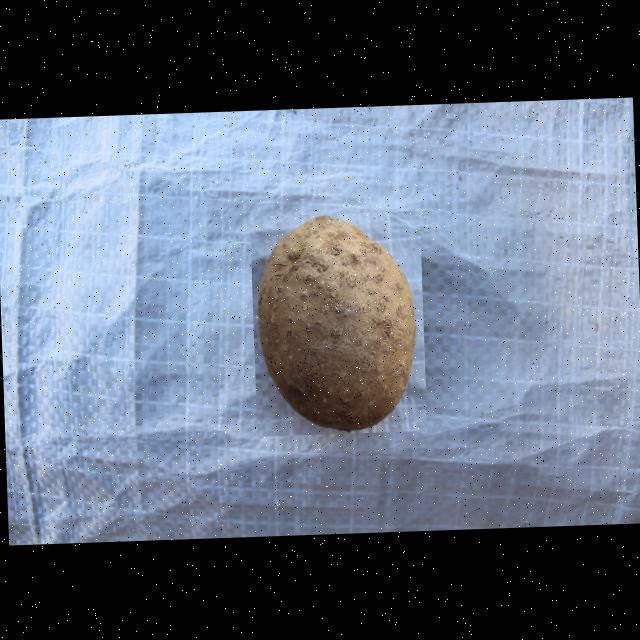Diseased-fungal potato: (248, 210, 426, 436)
